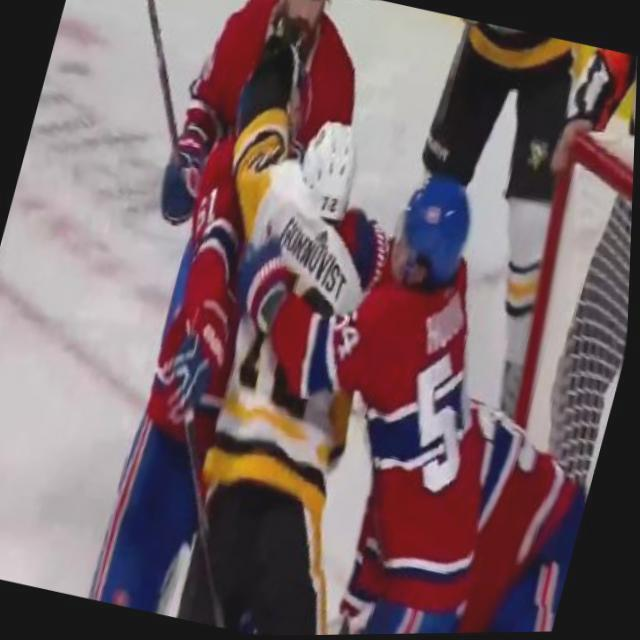fight: (85, 2, 558, 638)
